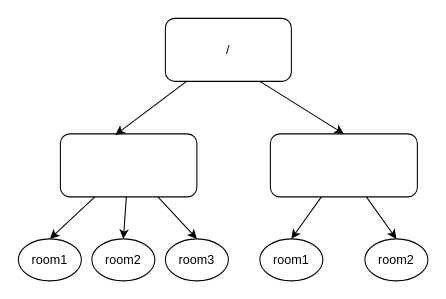
Some shapes in this 446 by 299 pixel diagram are drawn without their labels. Each missing label, with the box of its shape:
Namespace(/chatting): (59, 133, 197, 197)
Namespace(/streaming): (269, 133, 417, 197)
